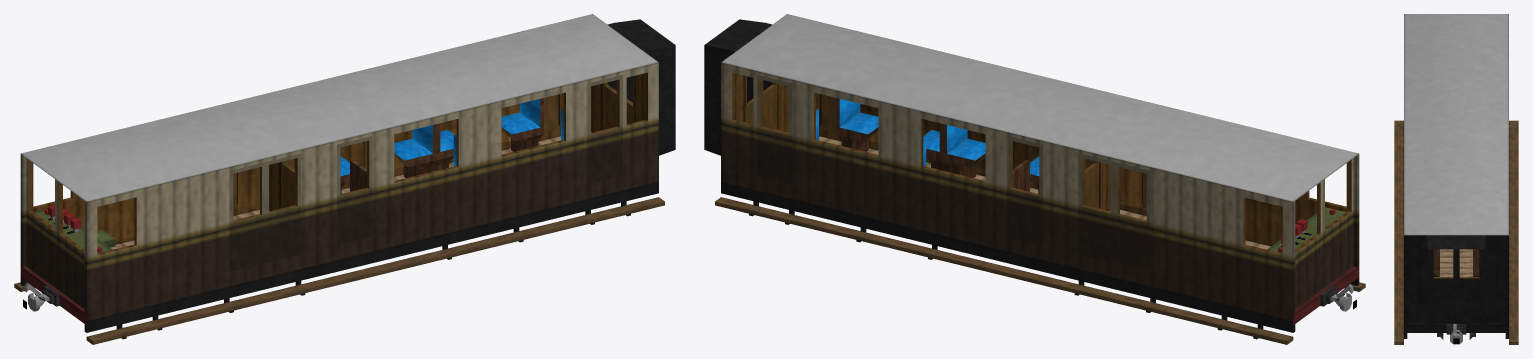
The model's file is sur_102a6_dmbso.obj.
3 views of the same model, side by side, from view 1: azimuth 30°, elevation 25°; view 2: azimuth 150°, elevation 25°; view 3: azimuth 270°, elevation 25° (orthographic). The views are drawn at different scales.
Visible parts, largest first — view 1: SHELL_WOOD_ext, SHELL_WOOD_roof, SHELL_WOOD_int, FRAME, corridor_rear, DOOR_13_EXTERNAL, DOOR_11_EXTERNAL, DOOR_7_EXTERNAL, DOOR_5_EXTERNAL, bench.002, bench, DOOR_2_CONNECTING (+4 smaller); view 2: SHELL_WOOD_ext, SHELL_WOOD_roof, SHELL_WOOD_int, FRAME, corridor_rear, DOOR_14_EXTERNAL, DOOR_12_EXTERNAL, DOOR_8_EXTERNAL, DOOR_6_EXTERNAL, bench.003, bench.001, DOOR_1_CONNECTING (+4 smaller); view 3: SHELL_WOOD_roof, SHELL_WOOD_ext, corridor_rear, COUPLED_REAR_3, DOOR_1_CONNECTING, DOOR_2_CONNECTING, SHELL_WOOD_int, COUPLER_ENGAGED_REAR_2_TOGGLE_LABEL_Uncouple, bench.001, bench.
Part boxes in pixels (box(x1,y1,x2,y2)): SHELL_WOOD_ext: box(14, 62, 664, 344); SHELL_WOOD_roof: box(21, 14, 658, 201); SHELL_WOOD_int: box(28, 72, 647, 255); FRAME: box(20, 182, 658, 332); corridor_rear: box(607, 19, 675, 155); DOOR_13_EXTERNAL: box(229, 162, 265, 271); DOOR_11_EXTERNAL: box(265, 153, 301, 262); DOOR_7_EXTERNAL: box(587, 75, 622, 184); DOOR_5_EXTERNAL: box(337, 136, 372, 245); bench.002: box(394, 123, 454, 177); bench: box(501, 98, 543, 151); DOOR_2_CONNECTING: box(602, 80, 617, 130); SHELL_WOOD_ext: box(715, 62, 1365, 344); SHELL_WOOD_roof: box(721, 14, 1358, 201); SHELL_WOOD_int: box(732, 72, 1351, 255); FRAME: box(721, 182, 1359, 332); corridor_rear: box(704, 19, 772, 155); DOOR_14_EXTERNAL: box(1114, 162, 1150, 271); DOOR_12_EXTERNAL: box(1078, 153, 1114, 262); DOOR_8_EXTERNAL: box(757, 75, 792, 184); DOOR_6_EXTERNAL: box(1007, 136, 1042, 245); bench.003: box(925, 123, 985, 177); bench.001: box(836, 98, 878, 151); DOOR_1_CONNECTING: box(762, 80, 777, 130); SHELL_WOOD_roof: box(1404, 14, 1508, 235); SHELL_WOOD_ext: box(1394, 120, 1518, 344); corridor_rear: box(1427, 235, 1485, 331); COUPLED_REAR_3: box(1430, 297, 1482, 322); DOOR_1_CONNECTING: box(1430, 249, 1456, 311); DOOR_2_CONNECTING: box(1456, 249, 1482, 311); SHELL_WOOD_int: box(1439, 249, 1473, 276); COUPLER_ENGAGED_REAR_2_TOGGLE_LABEL_Uncouple: box(1446, 324, 1466, 344); bench.001: box(1433, 249, 1439, 276); bench: box(1473, 249, 1479, 276).
Bounding box in the file's own units: 11.06 × 2.62 × 2.38.
Materials: 7 (7 with a texture image).
